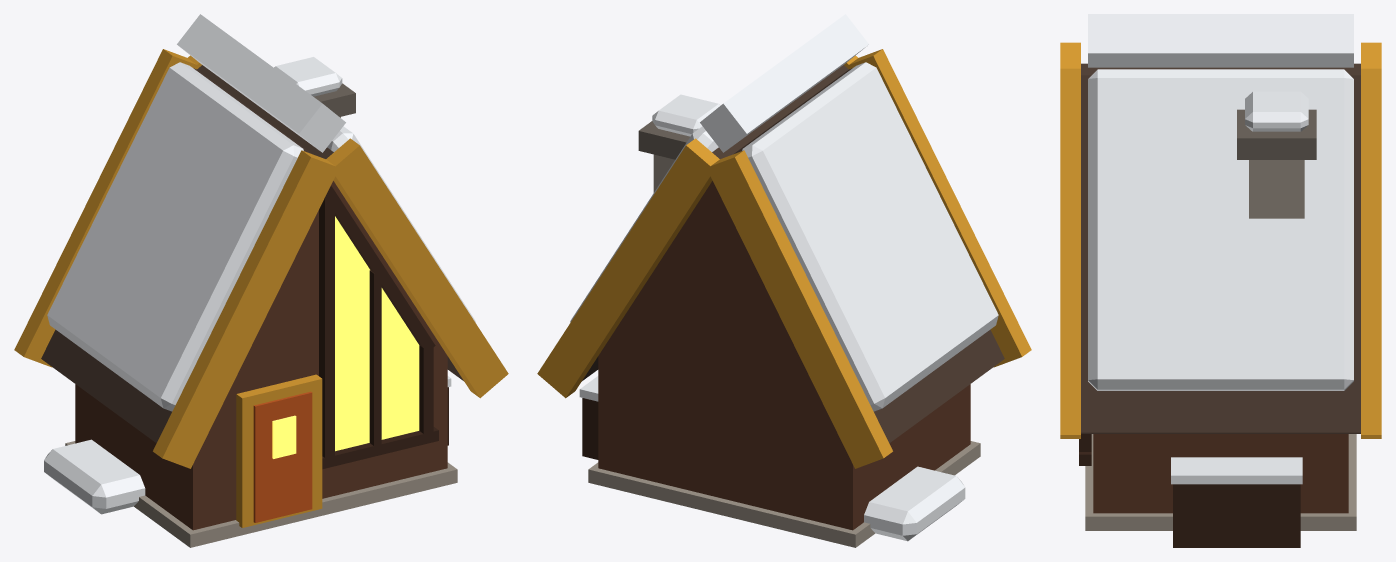
Rendered from warming-hut-chalet70s.glb.
3 views of the same model, side by side, from view 1: azimuth 30°, elevation 25°; view 2: azimuth 150°, elevation 25°; view 3: azimuth 270°, elevation 25° (orthographic). The views are drawn at different scales.
Parts seen in each view (by area): view 1: warming-hut-chalet70s; view 2: warming-hut-chalet70s; view 3: warming-hut-chalet70s.
Boxes of the visible parts, x1=… form: warming-hut-chalet70s: x1=14, y1=14, x2=508, y2=547; warming-hut-chalet70s: x1=537, y1=14, x2=1031, y2=547; warming-hut-chalet70s: x1=1060, y1=14, x2=1381, y2=547.
Size of the model in its own units: 5.47 by 6.17 by 4.03.
